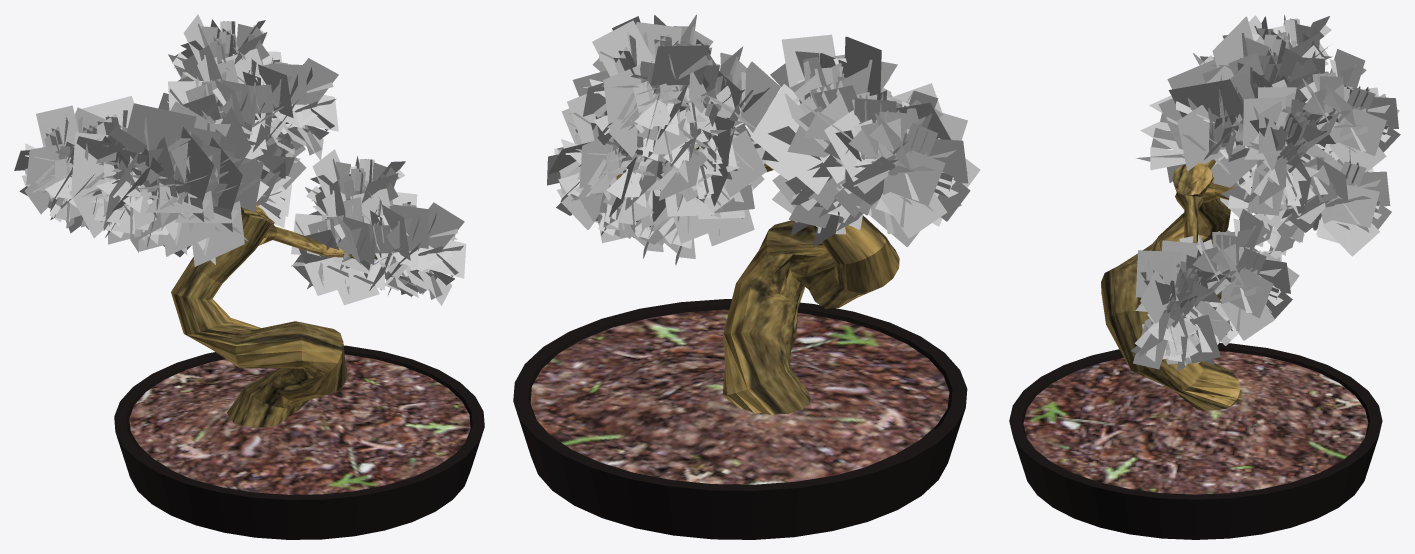
File: bonsai-tree.obj
The picture shows the model from 3 angles, left to right: view 1: azimuth 30°, elevation 25°; view 2: azimuth 150°, elevation 25°; view 3: azimuth 270°, elevation 25°; orthographic projection. The views are drawn at different scales.
Visible parts, largest first — view 1: 3, 1.001, 2, 1.002, 1, 4; view 2: 3, 1, 1.001, 2, 4, 1.002; view 3: 3, 1, 2, 1.002, 1.001, 4.
Boxes of the visible parts, x1,y1,x2,y2 form: 3: [129, 354, 470, 494]; 1.001: [14, 96, 268, 266]; 2: [114, 345, 484, 539]; 1.002: [291, 149, 466, 305]; 1: [158, 14, 338, 227]; 4: [171, 202, 377, 427]; 3: [530, 309, 949, 484]; 1: [548, 14, 780, 246]; 1.001: [747, 34, 980, 246]; 2: [513, 299, 967, 539]; 4: [616, 145, 899, 415]; 1.002: [547, 108, 695, 265]; 3: [1023, 351, 1368, 494]; 1: [1221, 49, 1400, 256]; 2: [1009, 343, 1382, 539]; 1.002: [1131, 209, 1299, 370]; 1.001: [1136, 14, 1332, 217]; 4: [1101, 159, 1242, 410].
Bounding box in the file's own units: 44.47 × 42.94 × 38.25.
